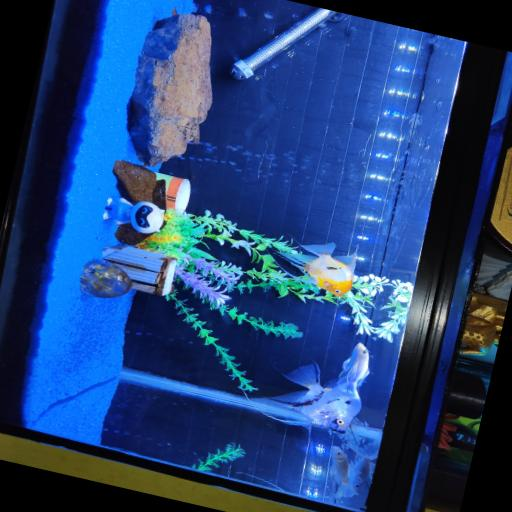Fish: (250, 342, 368, 432), (276, 242, 356, 295), (330, 445, 357, 497), (350, 457, 373, 487)
